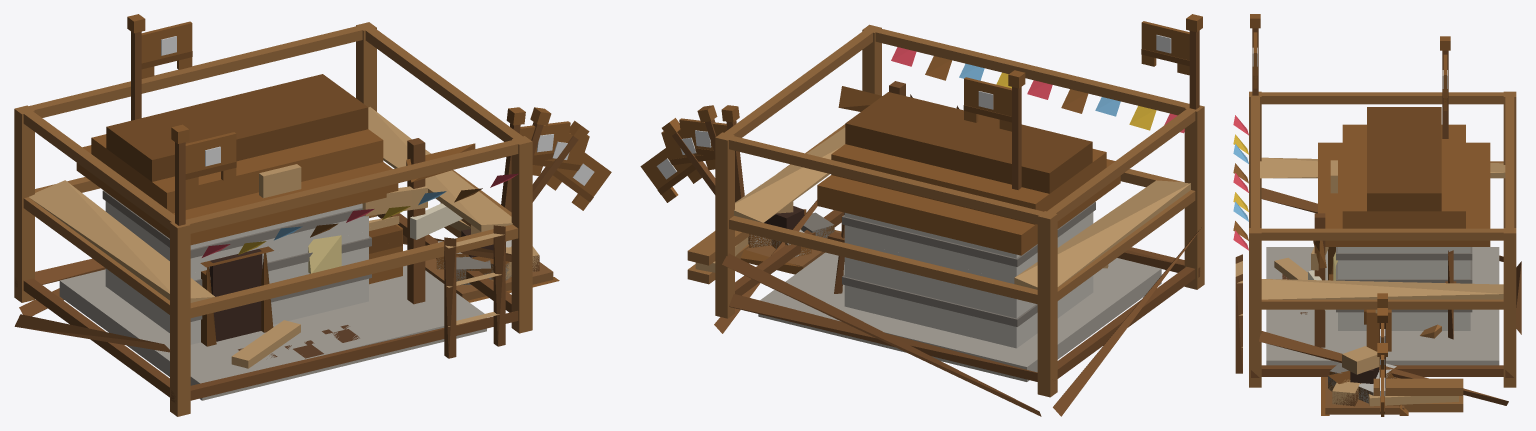
Rendered from bear-research.glb.
3 renders of one model, left to right at view 1: azimuth 30°, elevation 25°; view 2: azimuth 150°, elevation 25°; view 3: azimuth 270°, elevation 25°, orthographic. The views are drawn at different scales.
Parts seen in each view (by area): view 1: scaffold-mesh, built-mesh, dismantle-75-mesh, dismantle-50-mesh, banner, scaffold-banner, dismantle-25-banner, flag-pole, scaffold-flag-pole, dismantle-75-banner, dismantle-25-mesh, dismantle-50-banner (+2 smaller); view 2: scaffold-mesh, built-mesh, dismantle-75-mesh, scaffold-banner, banner, dismantle-25-mesh, dismantle-25-banner, flag-pole, dismantle-50-banner, scaffold-flag-pole, dismantle-75-banner, dismantle-50-mesh (+2 smaller); view 3: scaffold-mesh, built-mesh, dismantle-75-mesh, dismantle-25-mesh, dismantle-50-mesh, flag-pole, scaffold-flag-pole, scaffold-banner, banner.
Boxes of the visible parts, x1,y1,x2,y2 form: scaffold-mesh: (14,22,532,416); built-mesh: (76,74,475,346); dismantle-75-mesh: (102,181,553,345); dismantle-50-mesh: (191,229,547,368); banner: (141,21,192,78); scaffold-banner: (185,132,236,189); dismantle-25-banner: (546,152,611,210); flag-pole: (127,14,145,120); scaffold-flag-pole: (171,124,189,225); dismantle-75-banner: (519,121,570,162); dismantle-25-mesh: (407,225,559,304); dismantle-50-banner: (532,133,589,180); scaffold-mesh: (687,24,1204,416); built-mesh: (817,81,1120,347); dismantle-75-mesh: (746,202,1095,381); scaffold-banner: (1141,21,1189,75); banner: (963,77,1011,131); dismantle-25-mesh: (740,201,1026,381); dismantle-25-banner: (640,143,701,202); flag-pole: (1008,70,1025,189); dismantle-50-banner: (661,126,715,174); scaffold-flag-pole: (1186,14,1202,109); dismantle-75-banner: (679,118,727,157); dismantle-50-mesh: (748,209,1108,380); scaffold-mesh: (1233,91,1521,412); built-mesh: (1308,107,1490,339); dismantle-75-mesh: (1314,247,1472,414); dismantle-25-mesh: (1321,324,1441,415); dismantle-50-mesh: (1274,257,1404,414); flag-pole: (1440,36,1450,138); scaffold-flag-pole: (1250,14,1260,95); scaffold-banner: (1252,32,1257,88); banner: (1442,54,1447,110).
Bounding box in the file's own units: 2.74 × 1.59 × 1.61.
